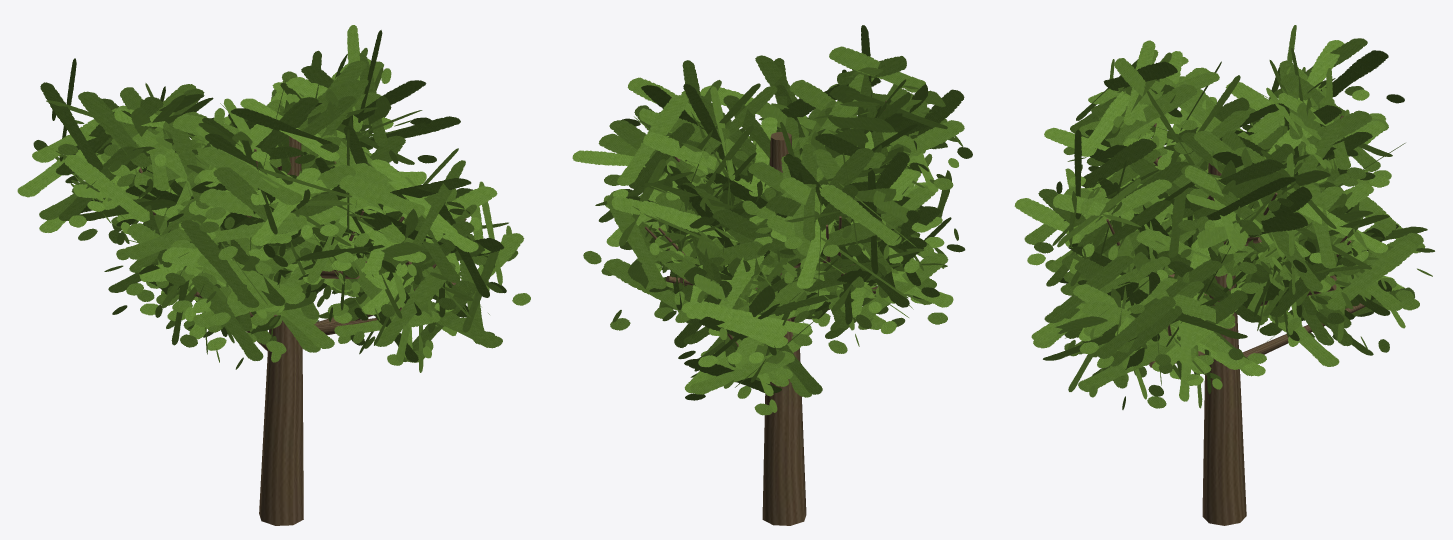
The picture shows the model from 3 angles, left to right: view 1: azimuth 30°, elevation 25°; view 2: azimuth 150°, elevation 25°; view 3: azimuth 270°, elevation 25°; orthographic projection. The views are drawn at different scales.
Visible parts, largest first — view 1: oak-leaf, oak-bark; view 2: oak-leaf, oak-bark; view 3: oak-leaf, oak-bark.
Boxes of the visible parts, x1,y1,x2,y2 form: oak-leaf: (17,25,530,372); oak-bark: (138,136,466,525); oak-leaf: (572,25,972,415); oak-bark: (644,100,886,525); oak-leaf: (1014,25,1434,409); oak-bark: (1100,115,1365,525).
Size of the model in its own units: 8.67 by 9.57 by 8.19.
2 materials, 2 textured.
